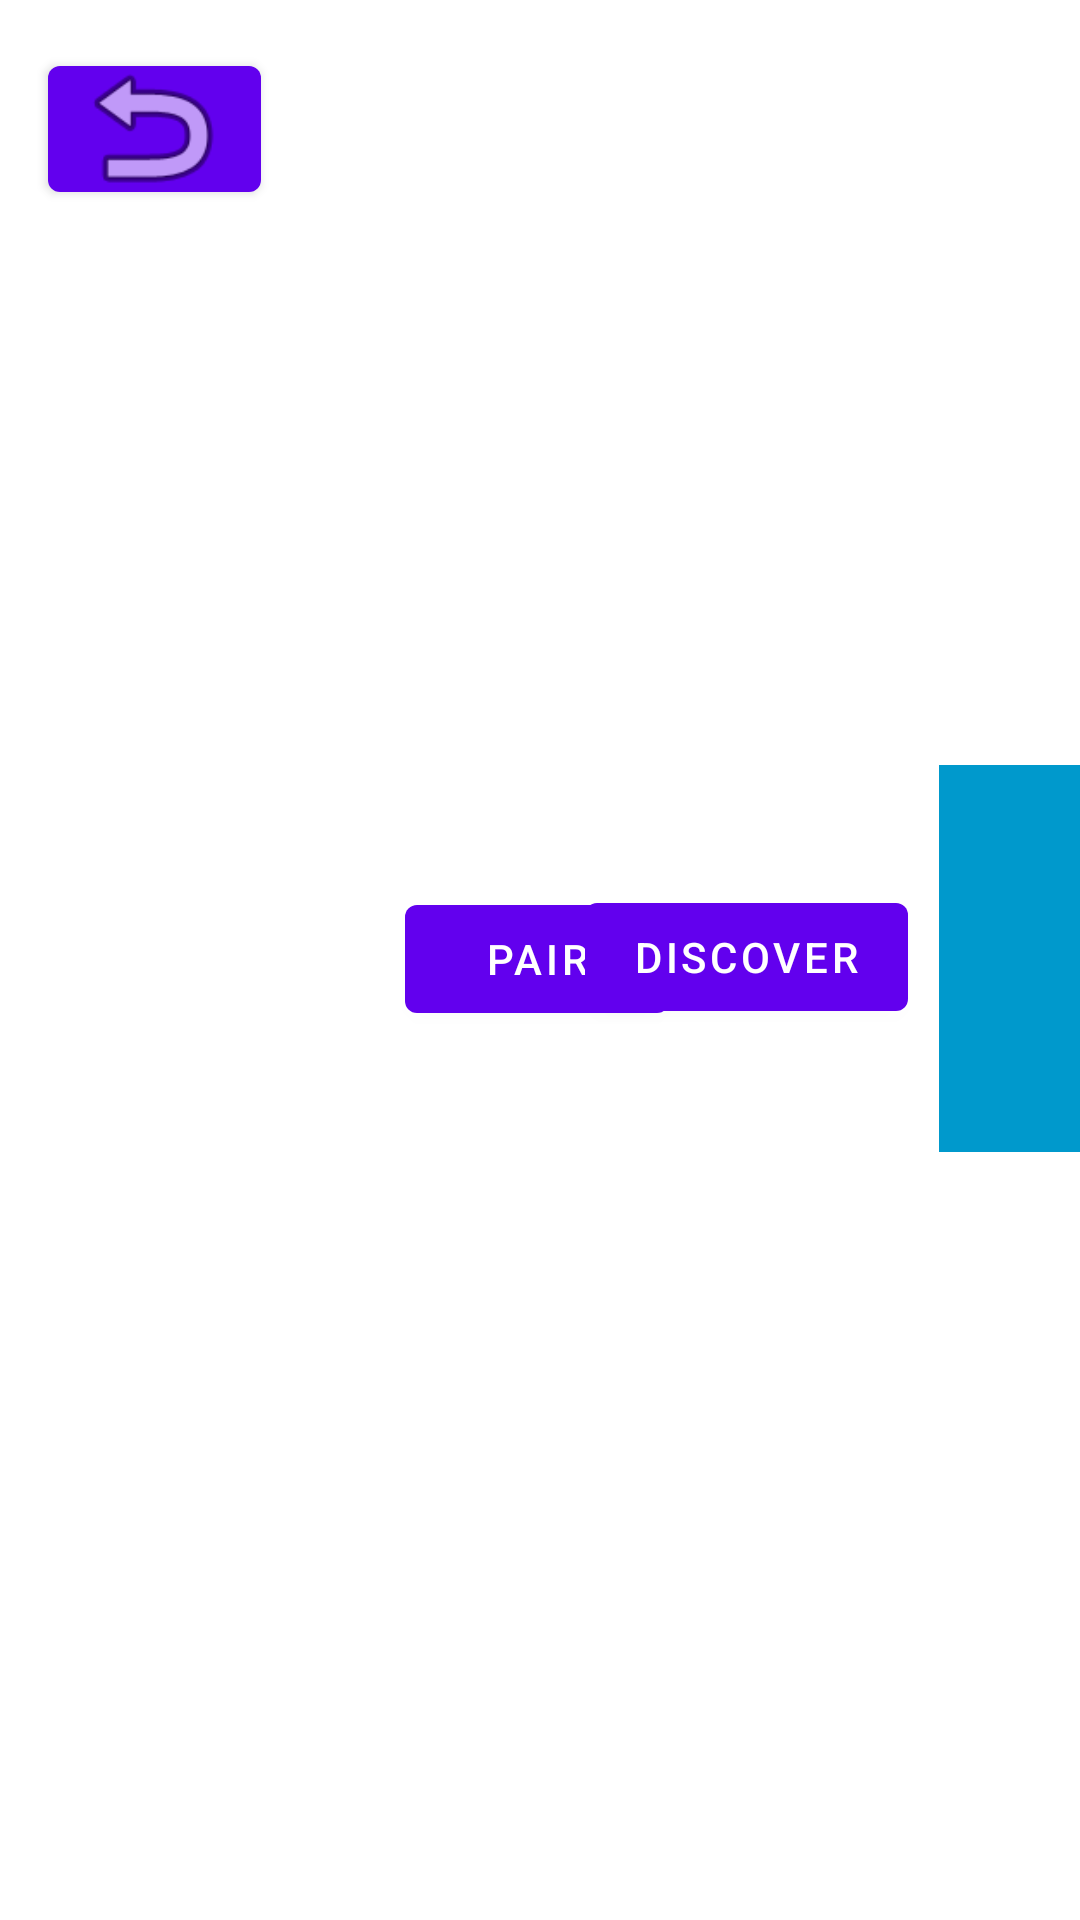

Screen size 1080×1920. Icon name, then its box in pixels as (x1, y1, x2, y2):
revert: (48, 66, 255, 192)
